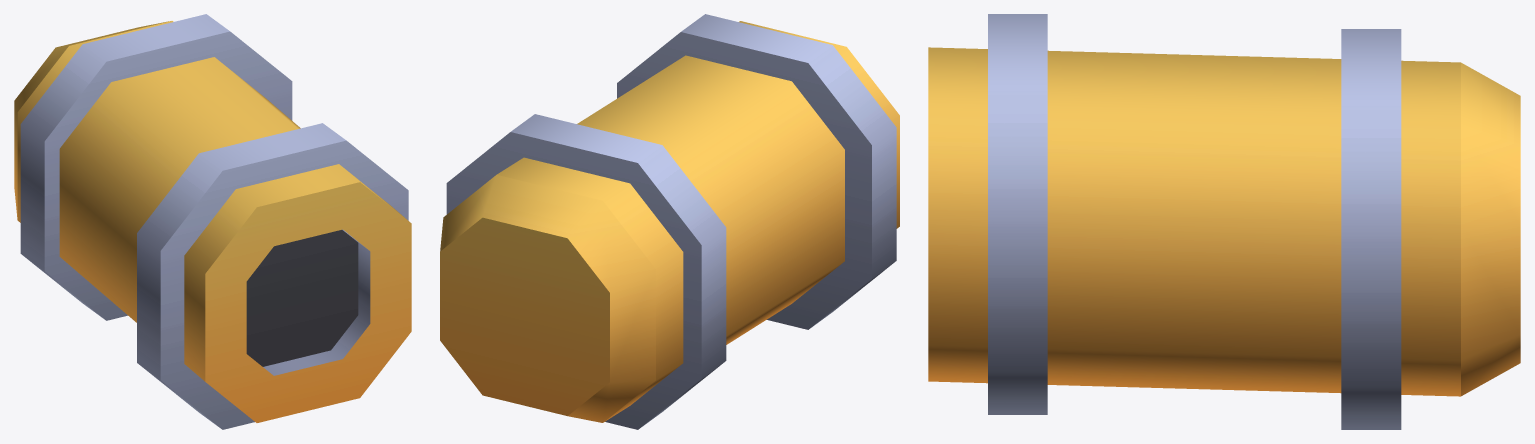
The model's file is container-flat-open.glb.
3 views of the same model, side by side, from view 1: azimuth 30°, elevation 25°; view 2: azimuth 150°, elevation 25°; view 3: azimuth 270°, elevation 25° (orthographic). The views are drawn at different scales.
Visible parts, largest first — view 1: container-flat-open; view 2: container-flat-open; view 3: container-flat-open.
Part boxes in pixels (x1=…): container-flat-open: x1=14, y1=14, x2=411, y2=429; container-flat-open: x1=440, y1=14, x2=899, y2=429; container-flat-open: x1=928, y1=14, x2=1520, y2=429.
Bounding box in the file's own units: 0.6595 × 0.6001 × 0.9909.
Materials: 1 (1 with a texture image).
